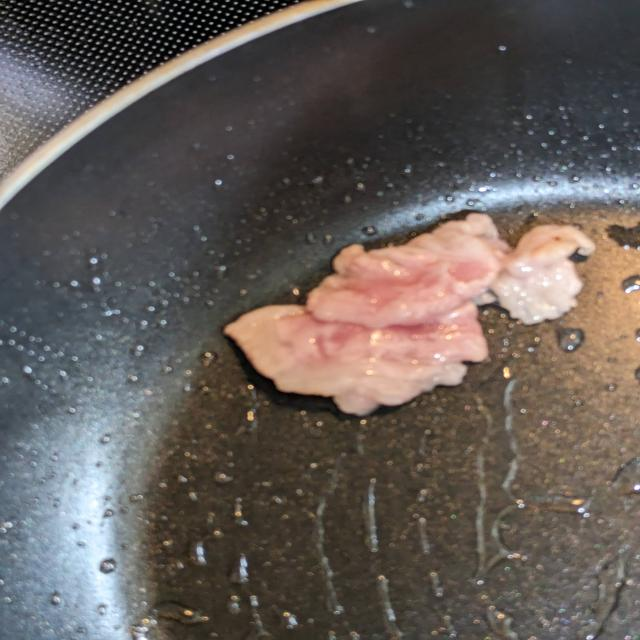NG undercooked pork,: (200, 204, 606, 418)
